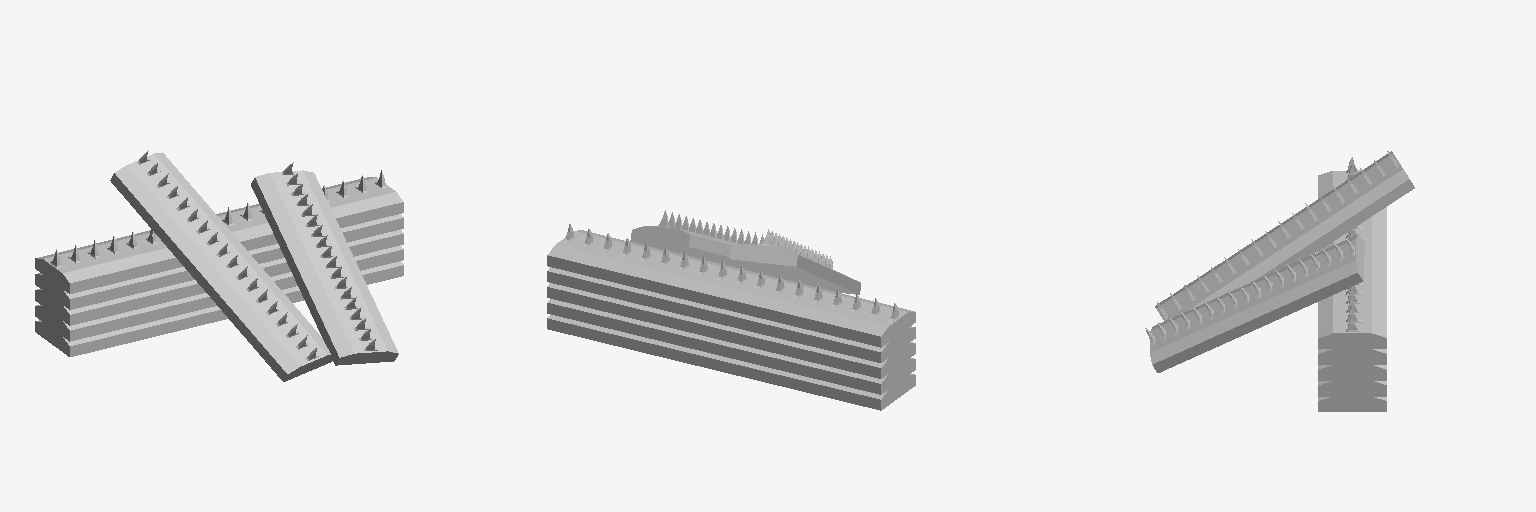
Rendered from spiketower.obj.
3 views of the same model, side by side, from view 1: azimuth 30°, elevation 25°; view 2: azimuth 150°, elevation 25°; view 3: azimuth 270°, elevation 25° (orthographic).
Parts seen in each view (by area): view 1: spike_tower_1; view 2: spike_tower_1; view 3: spike_tower_1.
Boxes of the visible parts, x1=… form: spike_tower_1: x1=35, y1=150, x2=403, y2=381; spike_tower_1: x1=547, y1=210, x2=915, y2=410; spike_tower_1: x1=1145, y1=151, x2=1414, y2=411.
Bounding box in the file's own units: 0.6985 × 0.3189 × 0.4908.